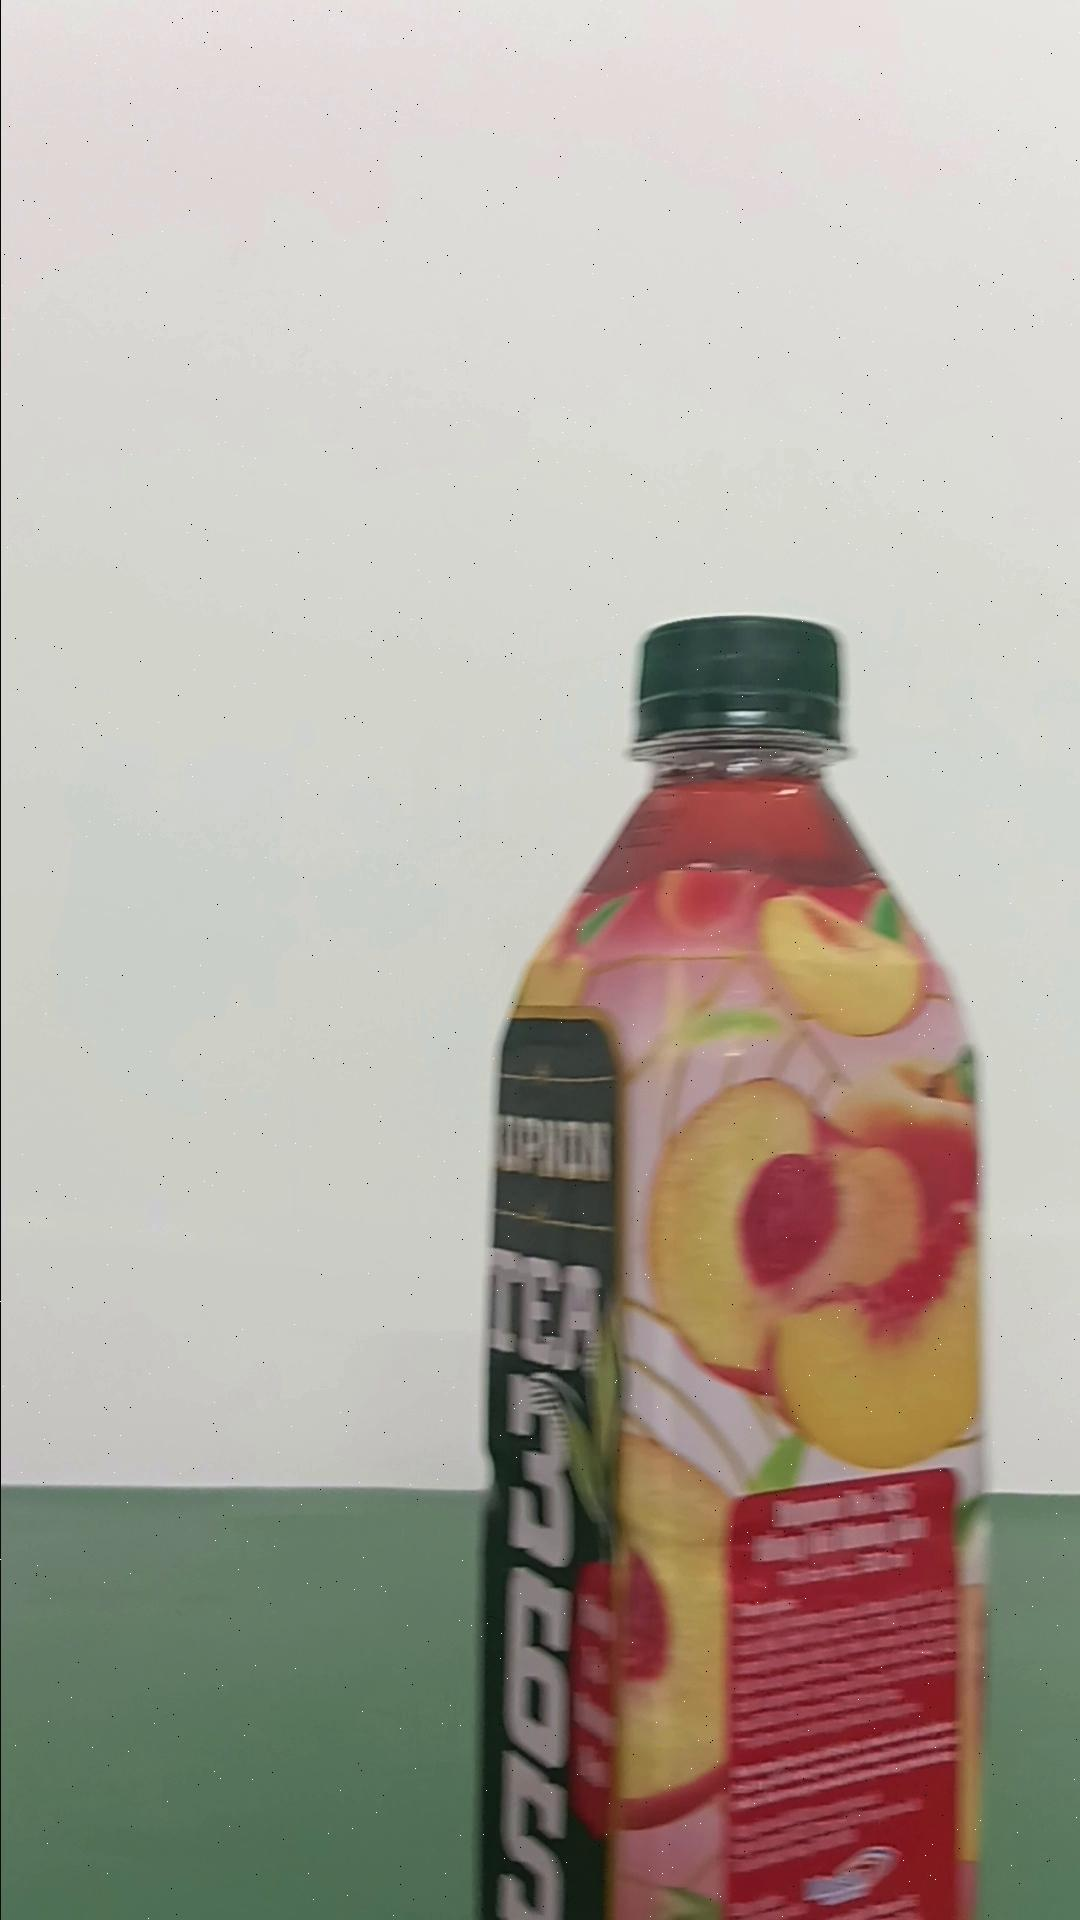khong loi: (473, 613, 986, 1915)
